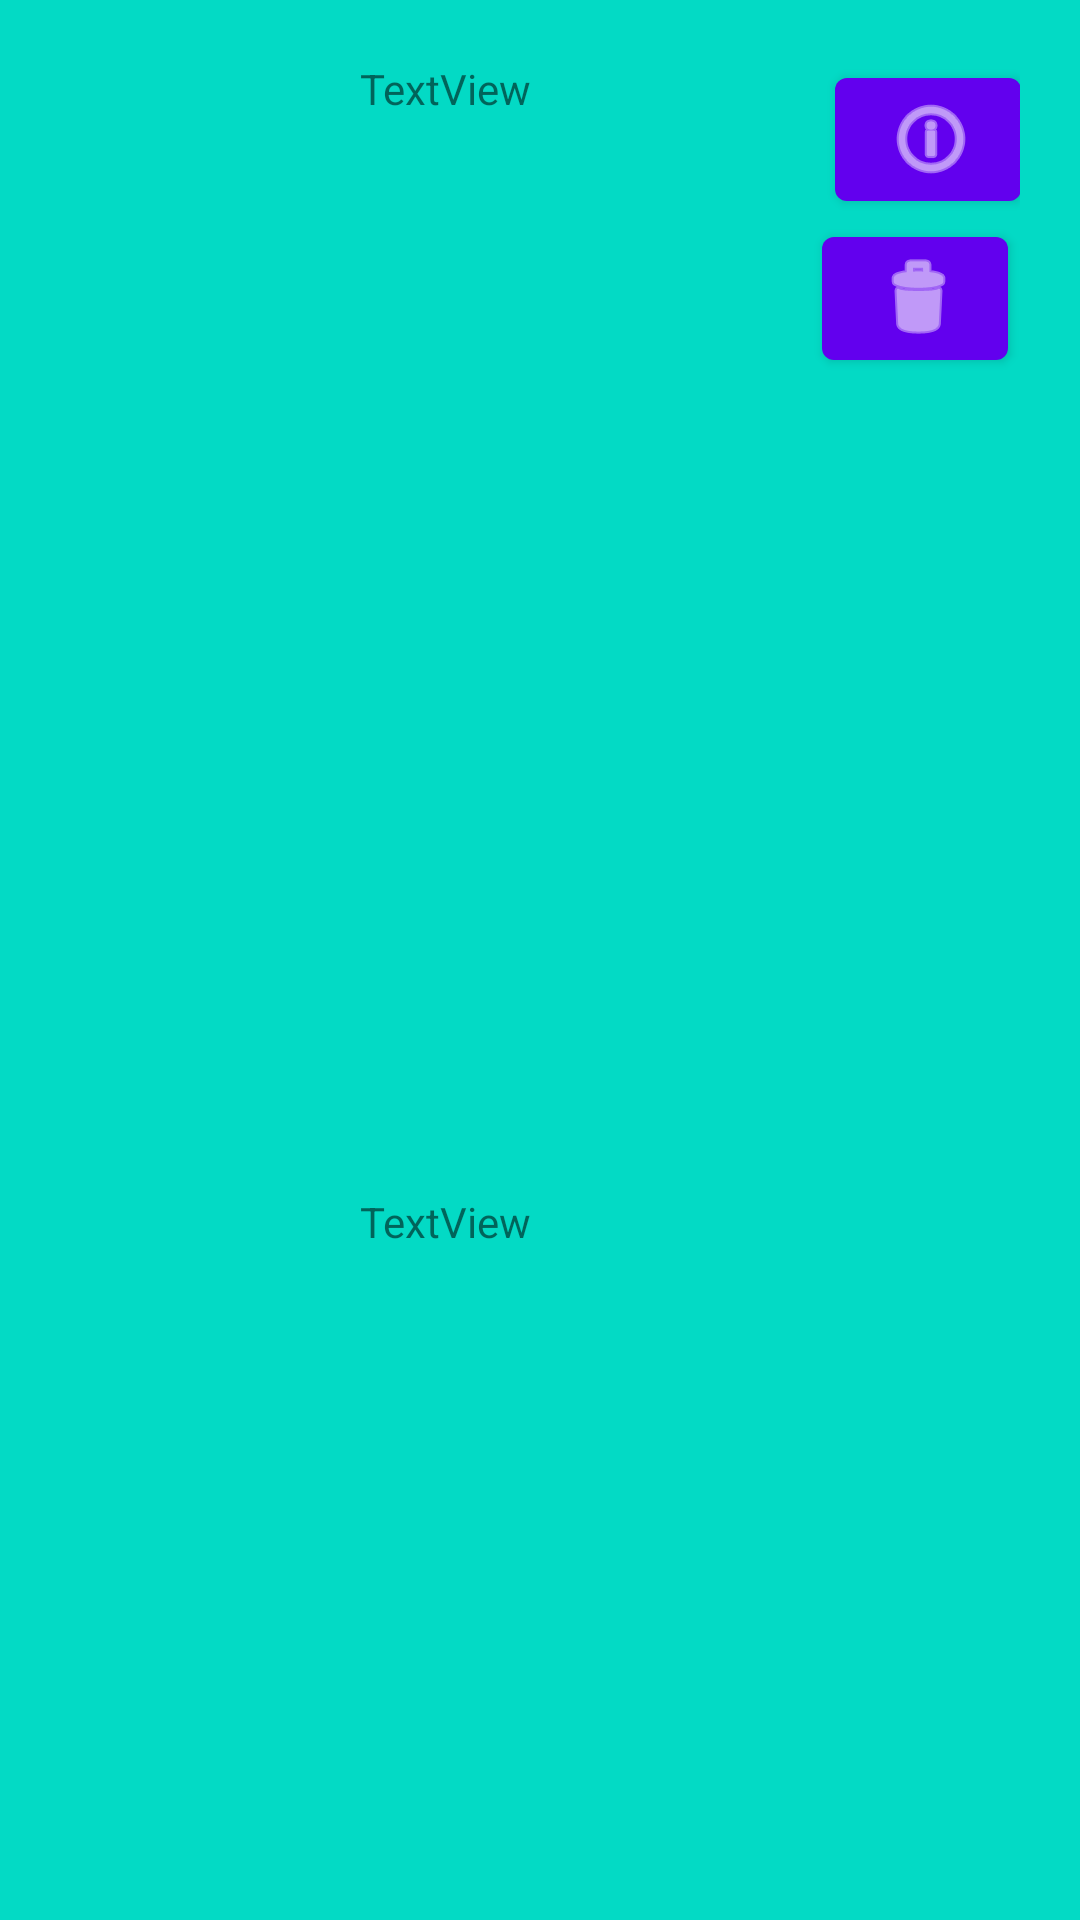

Where to tap for icons on this 1080 x 1920 app screen, as [x,y]:
delete: [915,298]
info details: [927,139]
